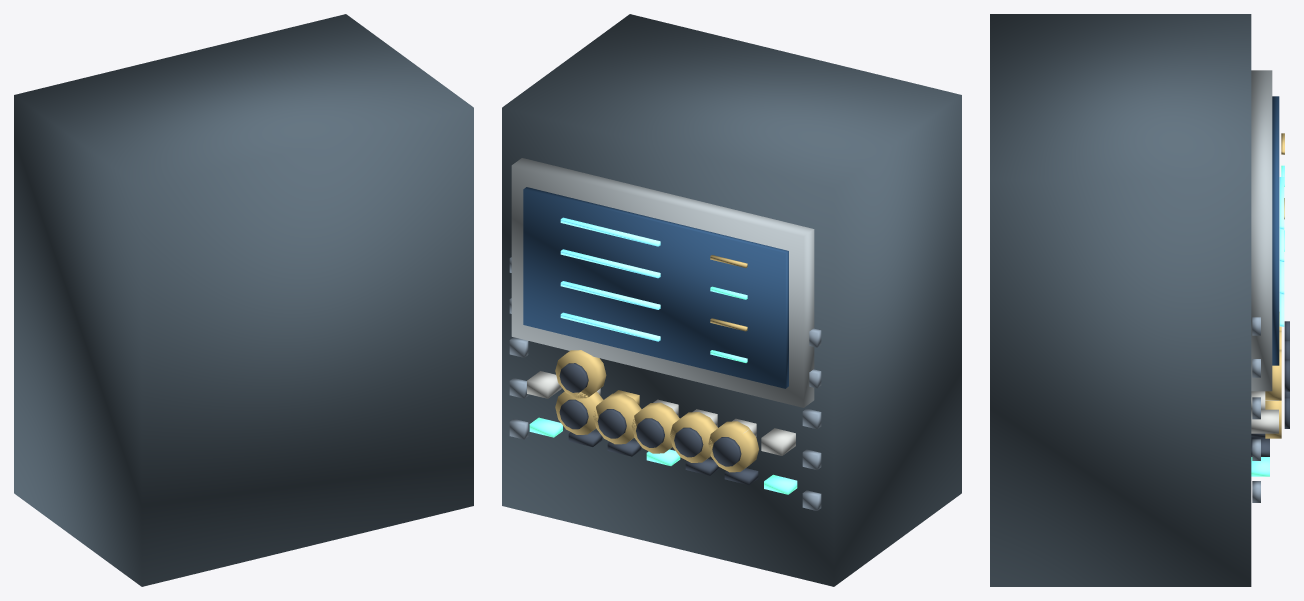
The model's file is L84_72_HolographicAttitudeControlSCADA_Fitted.fbx.
3 views of the same model, side by side, from view 1: azimuth 30°, elevation 25°; view 2: azimuth 150°, elevation 25°; view 3: azimuth 270°, elevation 25° (orthographic). The views are drawn at different scales.
Visible parts, largest first — view 1: L84_HolographicAttitudeControlSCADA_Static__tint1C2933; view 2: L84_HolographicAttitudeControlSCADA_Static__tint1C2933, L84_HolographicAttitudeControlSCADA_Static__tint0B214A, L84_HolographicAttitudeControlSCADA_Static__tint91A3AD, L84_HolographicAttitudeControlSCADA_Static__tintF2B547, L84_HolographicAttitudeControlSCADA_Static__tint131B26, L84_HolographicAttitudeControlSCADA_Static__tint59738F, L84_HolographicAttitudeControlSCADA_Static__tint38CCFC, L84_HolographicAttitudeControlSCADA_Static__tintCCD4CF, L84_HolographicAttitudeControlSCADA_Static__tint2BF0A8; view 3: L84_HolographicAttitudeControlSCADA_Static__tint1C2933, L84_HolographicAttitudeControlSCADA_Static__tint91A3AD, L84_HolographicAttitudeControlSCADA_Static__tint0B214A, L84_HolographicAttitudeControlSCADA_Static__tintF2B547, L84_HolographicAttitudeControlSCADA_Static__tint131B26, L84_HolographicAttitudeControlSCADA_Static__tint59738F, L84_HolographicAttitudeControlSCADA_Static__tint38CCFC, L84_HolographicAttitudeControlSCADA_Static__tintCCD4CF, L84_HolographicAttitudeControlSCADA_Static__tint2BF0A8.
Boxes of the visible parts, x1,y1,x2,y2 form: L84_HolographicAttitudeControlSCADA_Static__tint1C2933: (14, 14, 473, 586); L84_HolographicAttitudeControlSCADA_Static__tint1C2933: (502, 14, 961, 586); L84_HolographicAttitudeControlSCADA_Static__tint0B214A: (523, 187, 788, 388); L84_HolographicAttitudeControlSCADA_Static__tint91A3AD: (511, 158, 814, 407); L84_HolographicAttitudeControlSCADA_Static__tintF2B547: (555, 255, 758, 472); L84_HolographicAttitudeControlSCADA_Static__tint131B26: (559, 363, 758, 485); L84_HolographicAttitudeControlSCADA_Static__tint59738F: (509, 257, 821, 510); L84_HolographicAttitudeControlSCADA_Static__tint38CCFC: (560, 217, 660, 341); L84_HolographicAttitudeControlSCADA_Static__tintCCD4CF: (527, 371, 795, 455); L84_HolographicAttitudeControlSCADA_Static__tint2BF0A8: (529, 286, 797, 494); L84_HolographicAttitudeControlSCADA_Static__tint1C2933: (990, 14, 1251, 586); L84_HolographicAttitudeControlSCADA_Static__tint91A3AD: (1251, 70, 1272, 391); L84_HolographicAttitudeControlSCADA_Static__tint0B214A: (1272, 96, 1279, 365); L84_HolographicAttitudeControlSCADA_Static__tintF2B547: (1265, 133, 1284, 438); L84_HolographicAttitudeControlSCADA_Static__tint131B26: (1251, 321, 1289, 456); L84_HolographicAttitudeControlSCADA_Static__tint59738F: (1252, 317, 1260, 502); L84_HolographicAttitudeControlSCADA_Static__tint38CCFC: (1279, 177, 1284, 326); L84_HolographicAttitudeControlSCADA_Static__tintCCD4CF: (1251, 391, 1278, 433); L84_HolographicAttitudeControlSCADA_Static__tint2BF0A8: (1251, 165, 1284, 476).
Size of the model in its own units: 9.6 by 11.01 by 7.35.
